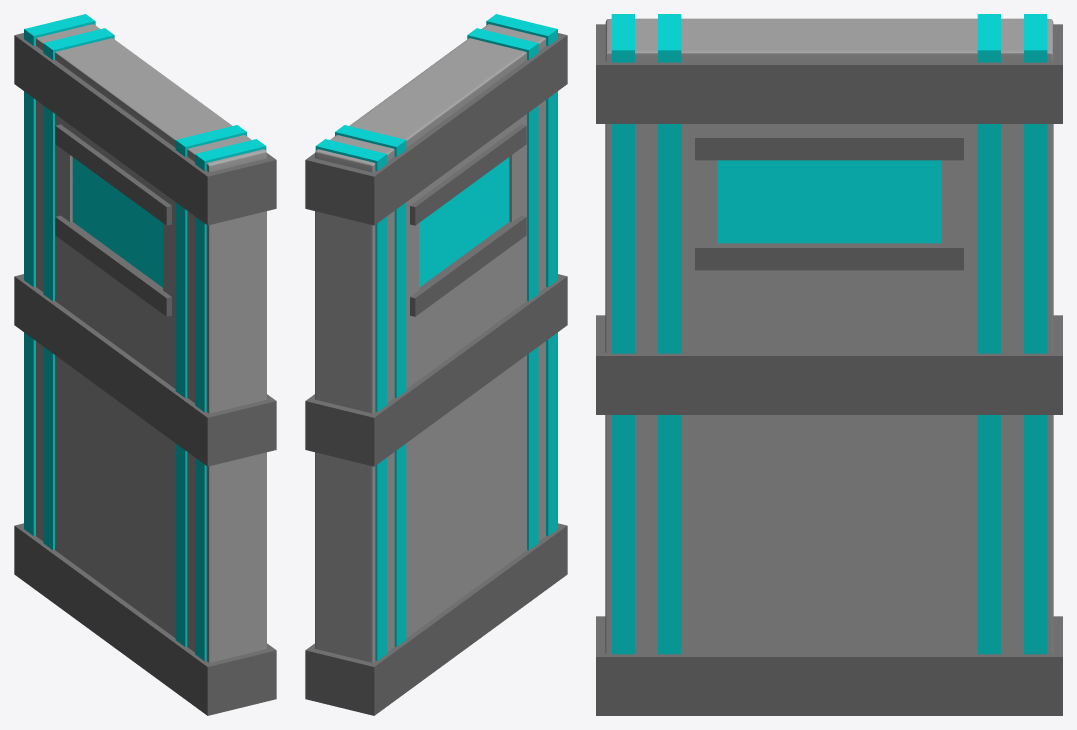
Rendered from door1.fbx.
3 renders of one model, left to right at view 1: azimuth 30°, elevation 25°; view 2: azimuth 150°, elevation 25°; view 3: azimuth 270°, elevation 25°, orthographic. The views are drawn at different scales.
Visible parts, largest first — view 1: base, cube_base20, cube_base32, cube_base31, polySurface99, polySurface100, window, cube_base30, cube_base24; view 2: base, cube_base20, cube_base32, cube_base31, polySurface100, polySurface99, window, cube_base30, cube_base24; view 3: base, cube_base32, cube_base20, cube_base31, polySurface99, polySurface100, window, cube_base30, cube_base24.
Boxes of the visible parts, left/top/right/bottom form: base: left=36, top=24, right=266, bottom=662; cube_base20: left=14, top=523, right=276, bottom=715; cube_base32: left=14, top=33, right=276, bottom=225; cube_base31: left=14, top=274, right=276, bottom=466; polySurface99: left=175, top=125, right=266, bottom=661; polySurface100: left=24, top=14, right=114, bottom=550; window: left=72, top=157, right=162, bottom=287; cube_base30: left=55, top=215, right=171, bottom=316; cube_base24: left=55, top=124, right=171, bottom=225; base: left=315, top=24, right=545, bottom=662; cube_base20: left=305, top=523, right=567, bottom=715; cube_base32: left=305, top=33, right=567, bottom=225; cube_base31: left=305, top=274, right=567, bottom=466; polySurface100: left=315, top=125, right=406, bottom=661; polySurface99: left=467, top=14, right=557, bottom=550; window: left=419, top=157, right=509, bottom=287; cube_base30: left=410, top=215, right=526, bottom=316; cube_base24: left=410, top=124, right=526, bottom=225; base: left=605, top=18, right=1053, bottom=653; cube_base32: left=596, top=24, right=1062, bottom=123; cube_base20: left=596, top=616, right=1062, bottom=715; cube_base31: left=596, top=315, right=1062, bottom=414; polySurface99: left=611, top=14, right=681, bottom=654; polySurface100: left=977, top=14, right=1047, bottom=654; window: left=717, top=160, right=941, bottom=243; cube_base30: left=695, top=243, right=963, bottom=270; cube_base24: left=695, top=134, right=963, bottom=160.
Bounding box in the file's own units: 0.2144 × 1.63 × 1.04.
